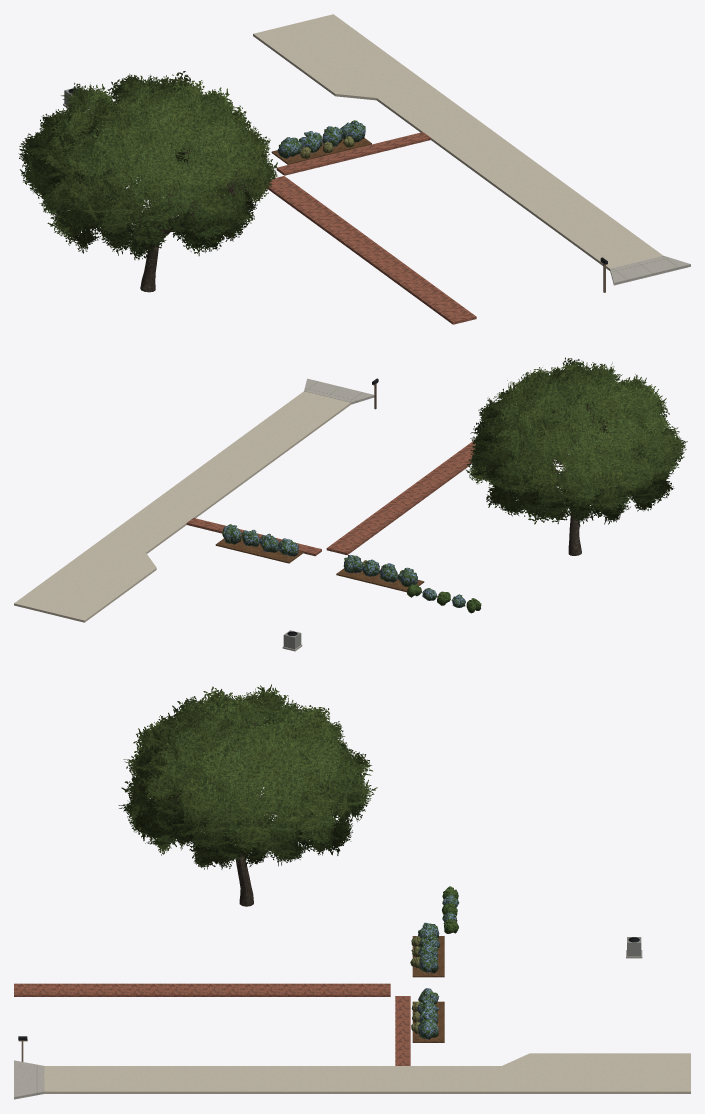
The model's file is sullivan-house-lot.glb.
The picture shows the model from 3 angles, top to bottom: view 1: azimuth 30°, elevation 25°; view 2: azimuth 150°, elevation 25°; view 3: azimuth 270°, elevation 25°; orthographic projection. The views are drawn at different scales.
Visible parts, largest first — view 1: Tree_LiveOak_1, Lot_Hardscape, Lot_Plants; view 2: Tree_LiveOak_1, Lot_Hardscape, Lot_Plants; view 3: Tree_LiveOak_1, Lot_Hardscape, Lot_Plants.
Boxes of the visible parts, x1,y1,x2,y2 form: Tree_LiveOak_1: (18, 71, 277, 292); Lot_Hardscape: (253, 14, 690, 324); Lot_Plants: (110, 120, 365, 188); Tree_LiveOak_1: (465, 357, 687, 555); Lot_Hardscape: (14, 378, 475, 622); Lot_Plants: (222, 524, 481, 613); Tree_LiveOak_1: (118, 684, 377, 906); Lot_Hardscape: (14, 936, 690, 1099); Lot_Plants: (410, 886, 459, 1039).
Size of the model in its own units: 32.22 by 12.37 by 35.74.
Materials: 13 (10 with a texture image).
